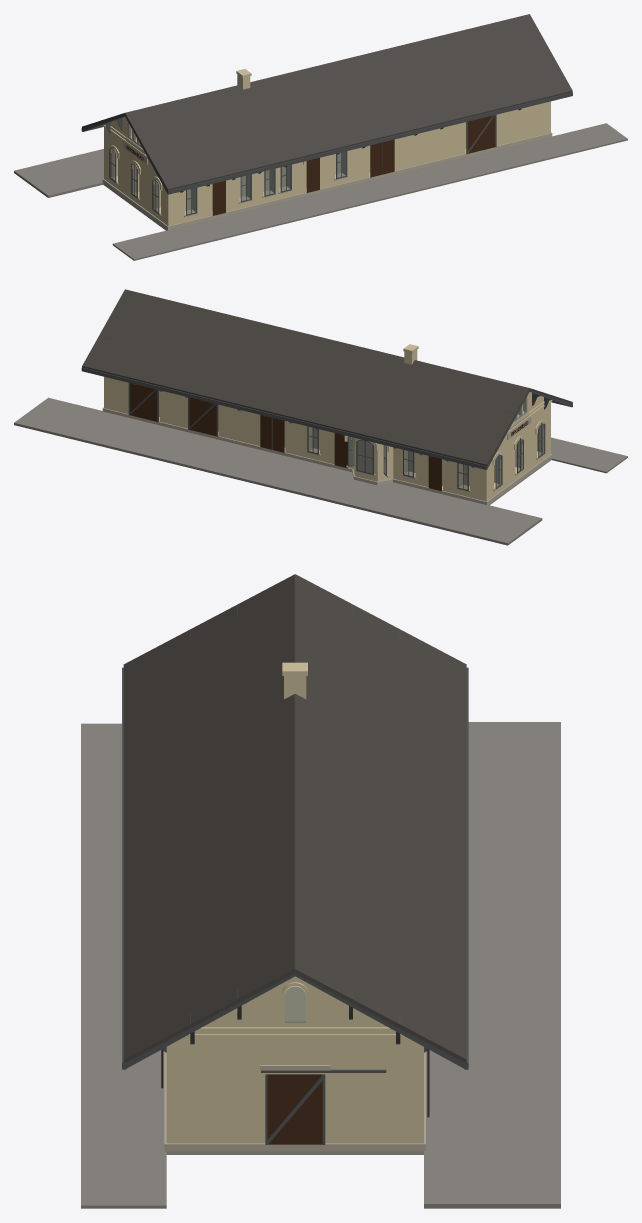
File: Brodhead_Depot.glb
3 views of the same model, one above another, from view 1: azimuth 30°, elevation 25°; view 2: azimuth 150°, elevation 25°; view 3: azimuth 270°, elevation 25° (orthographic). The views are drawn at different scales.
Visible parts, largest first — view 1: roof, platform, brick, doors, trim, stone, glass, sash, foundation; view 2: roof, platform, brick, doors, trim, stone, glass, sash; view 3: roof, platform, brick, trim, doors, stone, foundation.
Boxes of the visible parts, x1,y1,x2,y2 form: roof: [82, 14, 572, 190]; platform: [14, 123, 627, 260]; brick: [102, 101, 550, 225]; doors: [126, 115, 495, 215]; trim: [81, 40, 572, 194]; stone: [102, 132, 552, 230]; glass: [110, 122, 345, 214]; sash: [109, 147, 347, 215]; foundation: [103, 136, 551, 230]; roof: [82, 289, 572, 465]; platform: [14, 397, 627, 545]; brick: [104, 376, 552, 501]; doors: [130, 383, 528, 491]; trim: [81, 315, 572, 469]; stone: [102, 407, 552, 504]; glass: [308, 398, 544, 489]; sash: [307, 422, 545, 491]; roof: [123, 574, 466, 1063]; platform: [81, 722, 560, 1208]; brick: [166, 976, 423, 1143]; trim: [122, 605, 468, 1144]; doors: [162, 1049, 428, 1144]; stone: [164, 1052, 425, 1151]; foundation: [165, 1151, 423, 1154].
Bounding box in the file's own units: 1.4 × 0.2964 × 0.5886.
